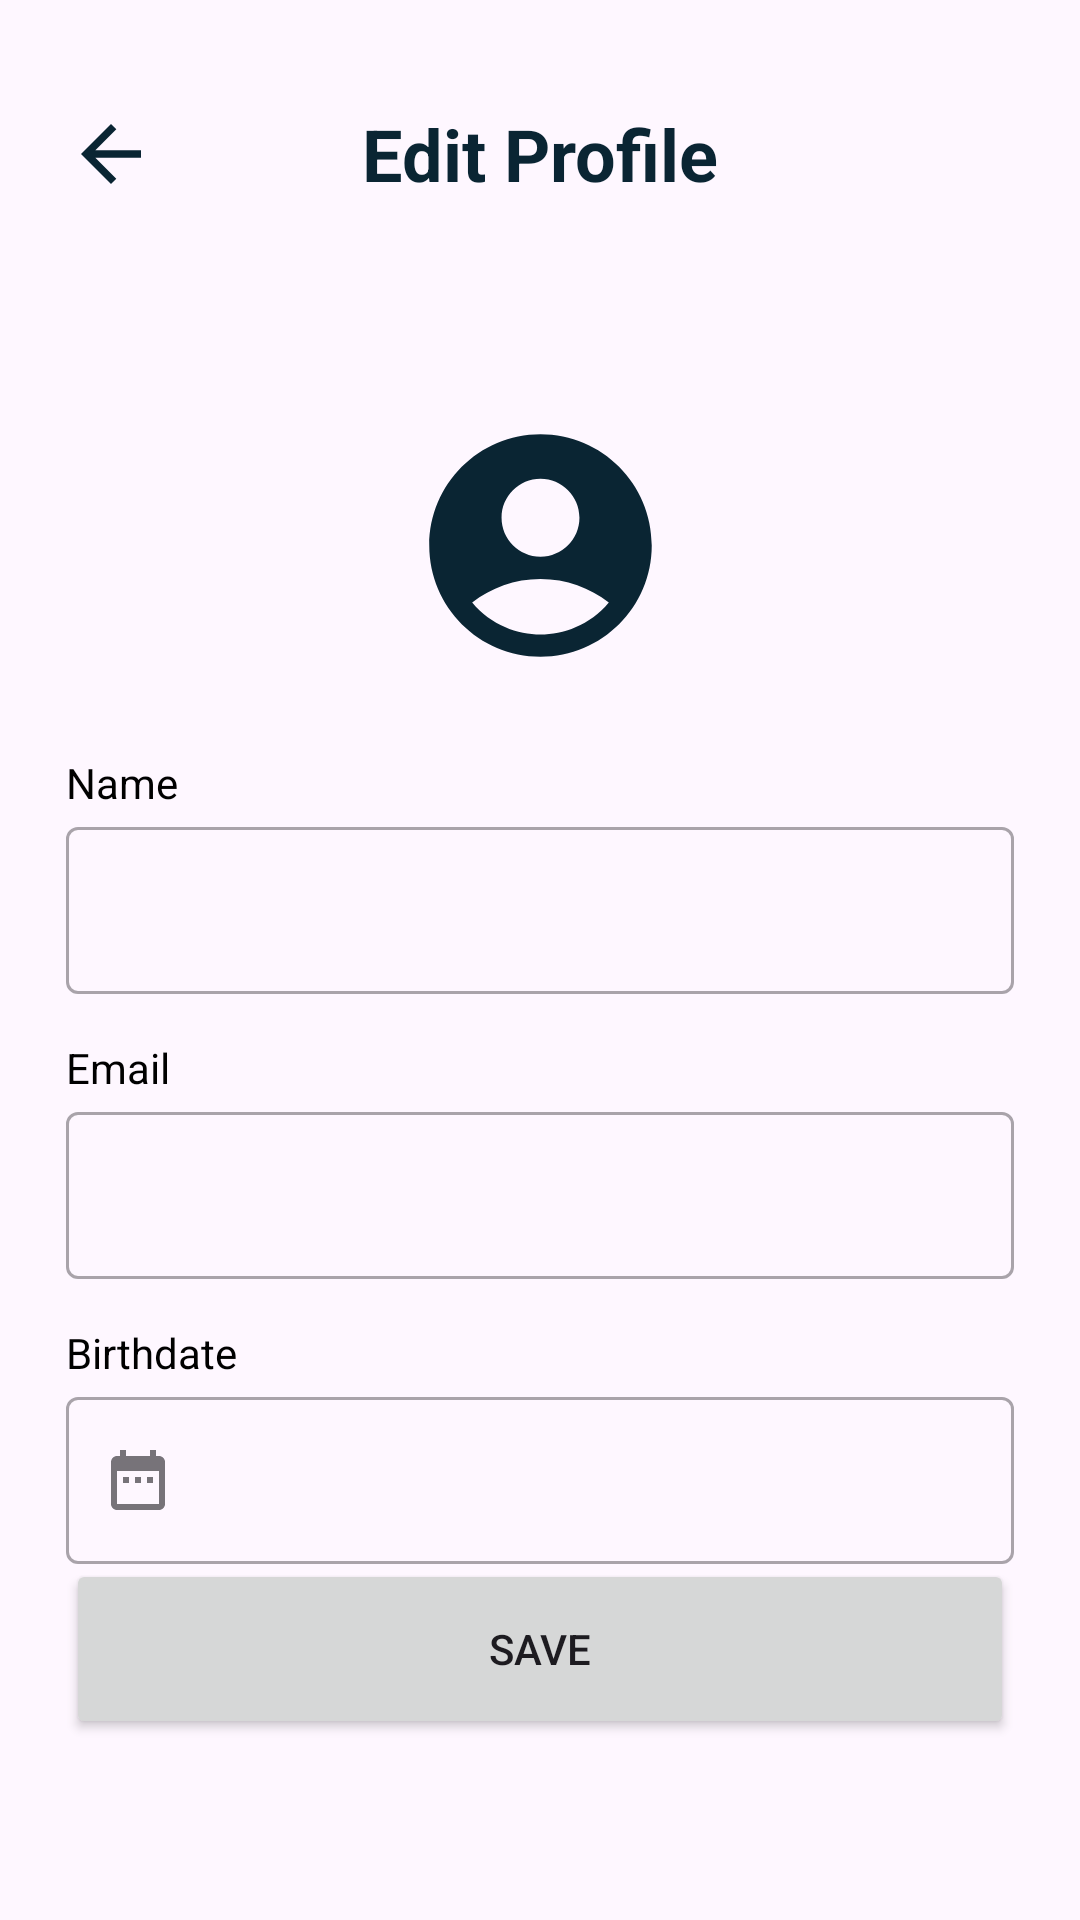

Named icons in this screenshot (1080px x 1920px) and their centers, [x,y]:
arrow back: [111,154]
Profile Icon: [540,545]
